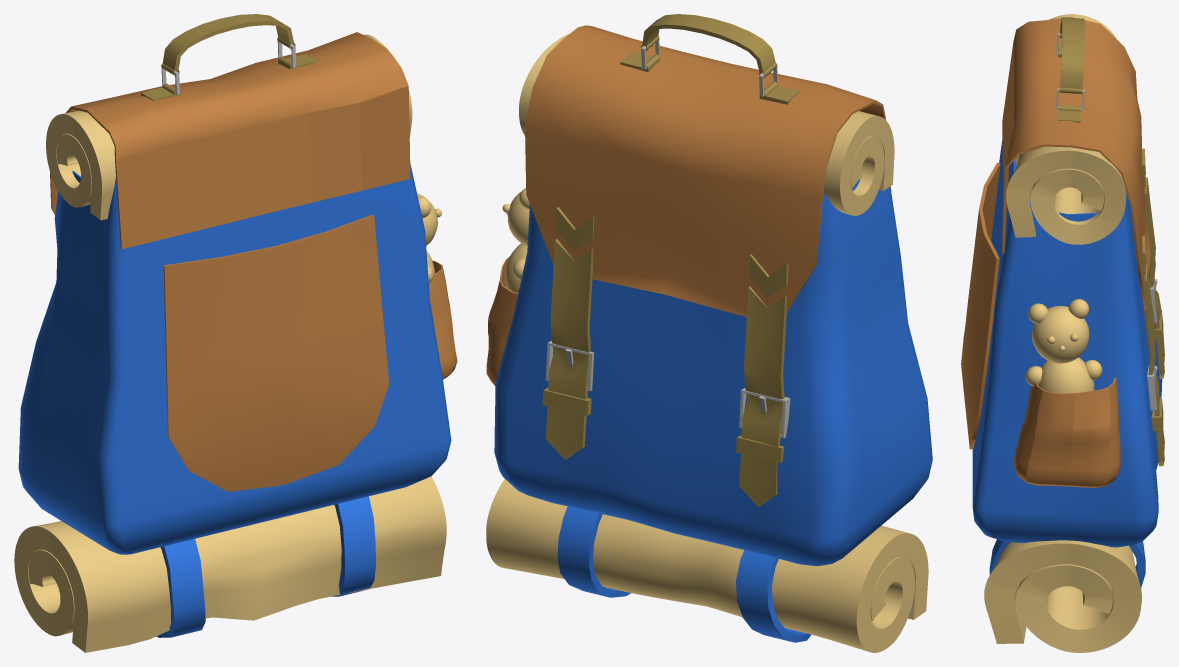
Rendered from Bag_Girl.fbx.
The picture shows the model from 3 angles, left to right: view 1: azimuth 30°, elevation 25°; view 2: azimuth 150°, elevation 25°; view 3: azimuth 270°, elevation 25°; orthographic projection. The views are drawn at different scales.
Parts seen in each view (by area): view 1: Bag; view 2: Bag; view 3: Bag.
Boxes of the visible parts, x1,y1,x2,y2 form: Bag: [14, 14, 457, 652]; Bag: [486, 14, 932, 652]; Bag: [961, 14, 1164, 652].
Bounding box in the file's own units: 46.59 × 66.18 × 22.49.
1 material, 1 textured.
